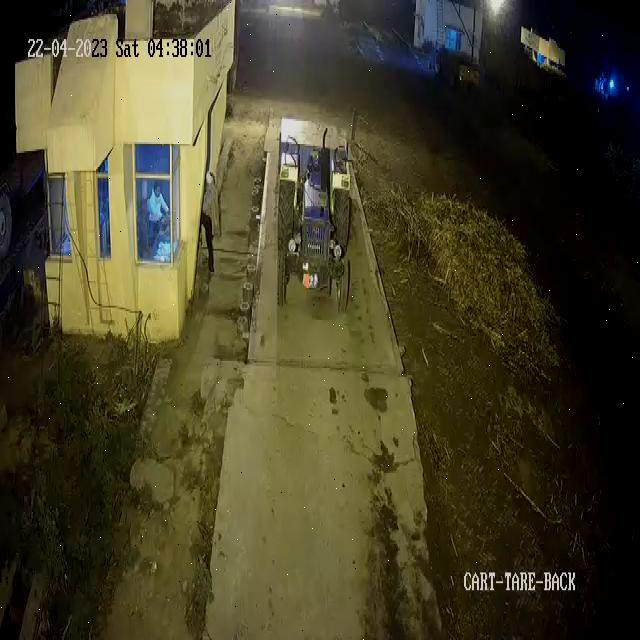Tratores - v5 YOLO V8L 2024-11-13: (280, 142, 356, 318)
